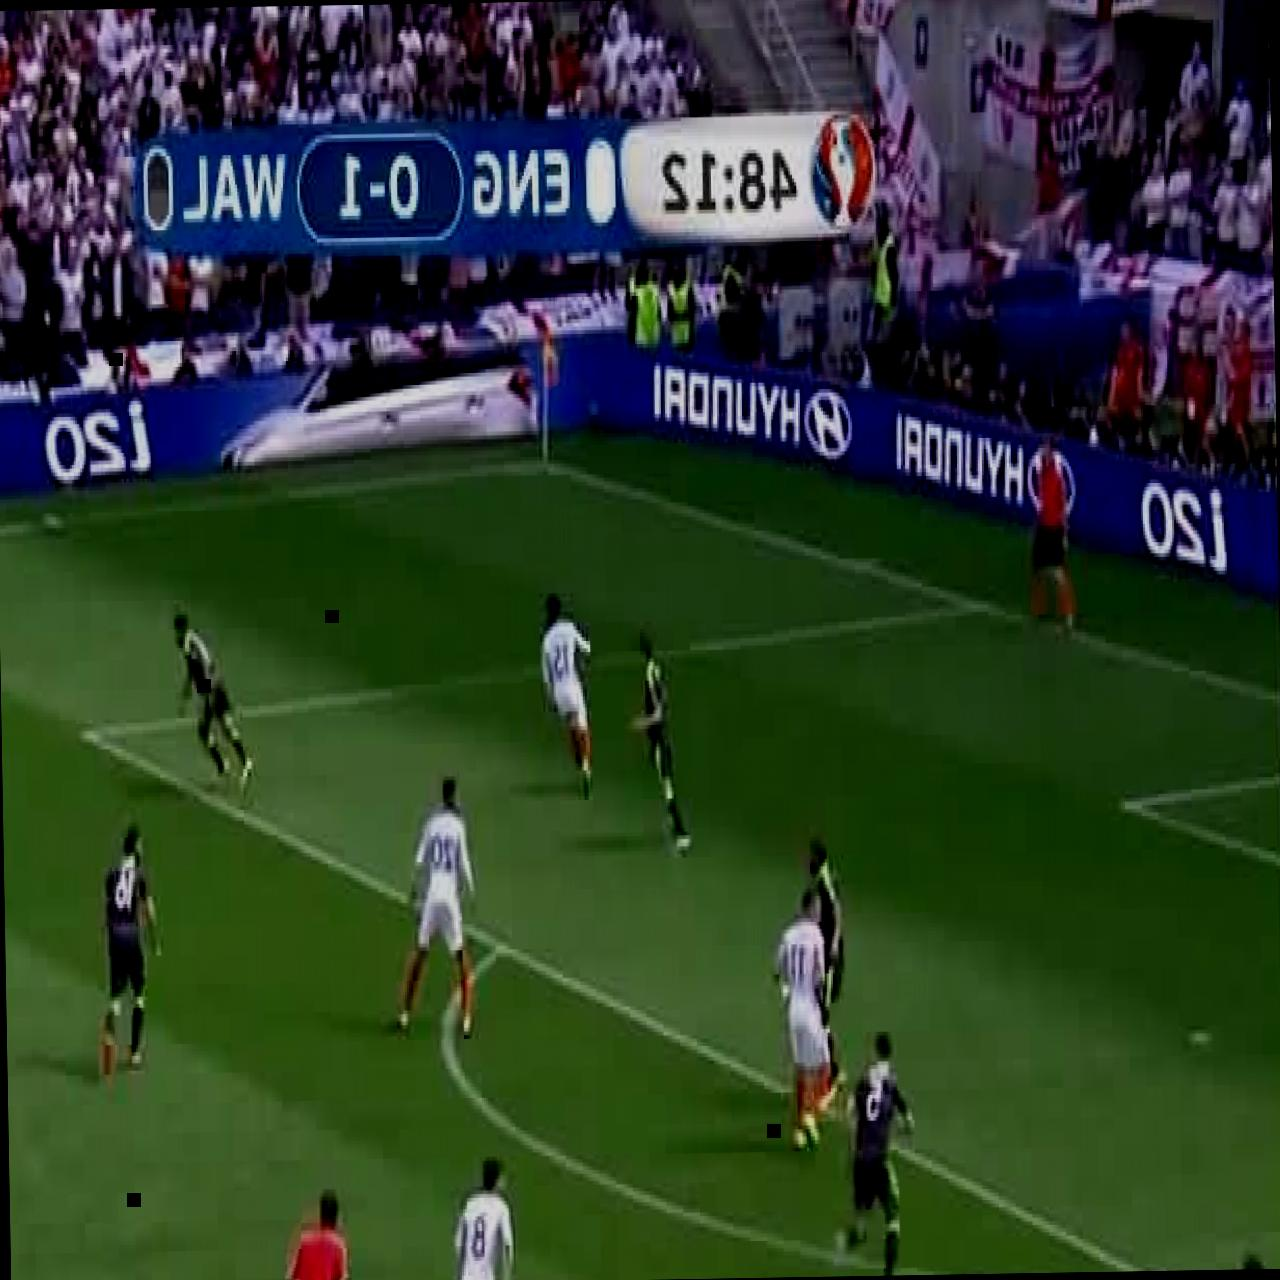football: (394, 776, 476, 1036), (838, 1028, 917, 1276), (100, 829, 164, 1076), (776, 888, 835, 1154), (175, 607, 255, 789), (634, 636, 694, 852), (427, 1152, 519, 1280), (540, 596, 598, 796), (802, 838, 848, 1088), (1030, 446, 1075, 630), (269, 1189, 350, 1280), (1216, 1254, 1280, 1270)
